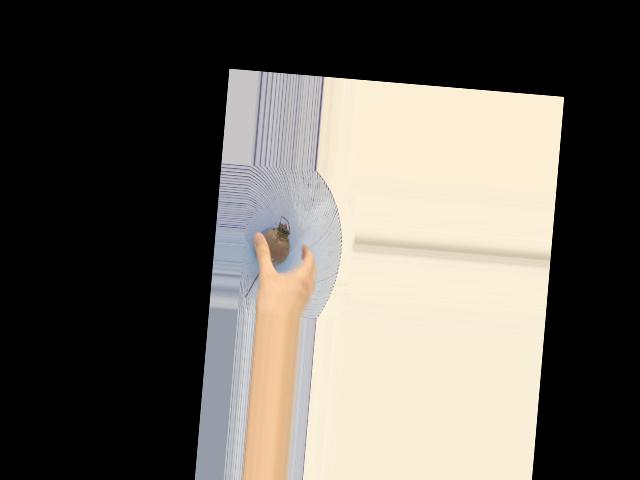beet: (244, 213, 292, 300)
